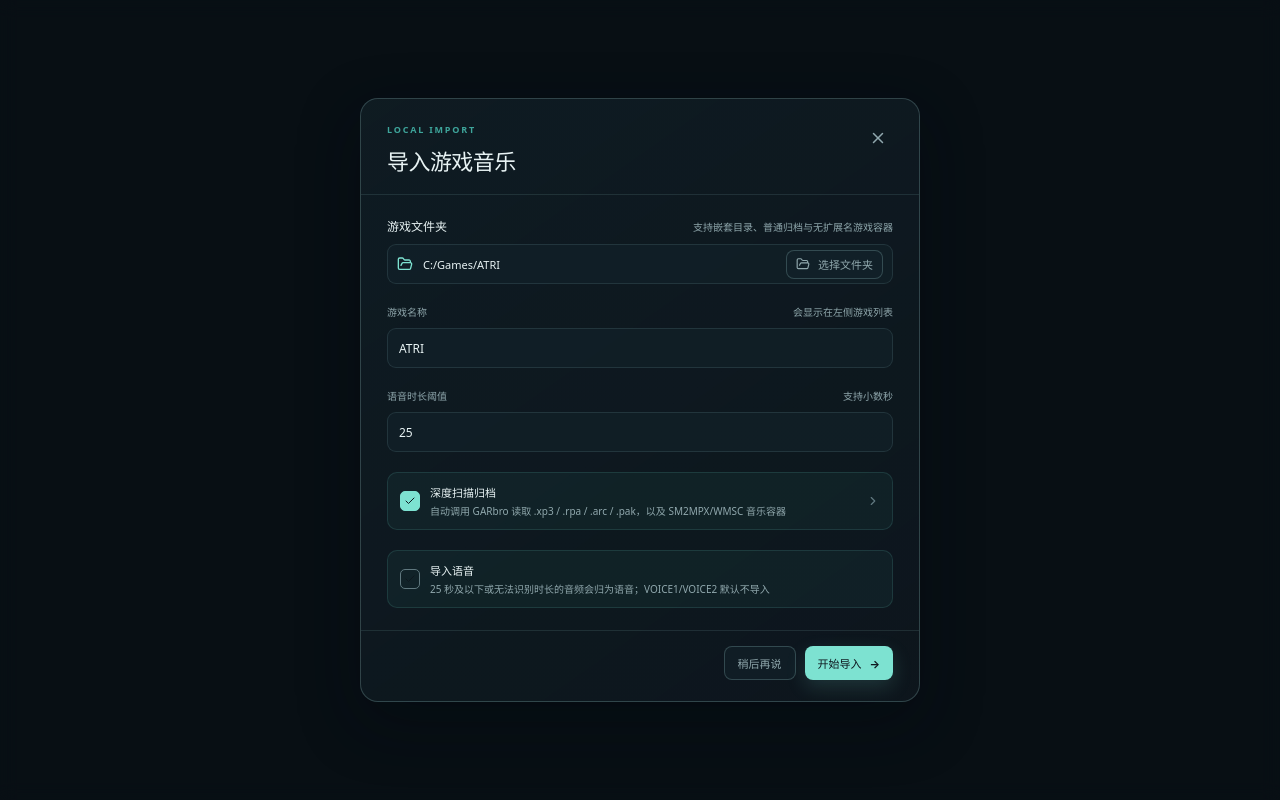
Test case: scan and settings surfaces › rejects invalid voice threshold 60.1
The image size is (1280, 800).
Replace the text in the number field labelled "语音时长阈值 支持小数秒" with "60.1" at (640, 432), box [387,412,893,452]
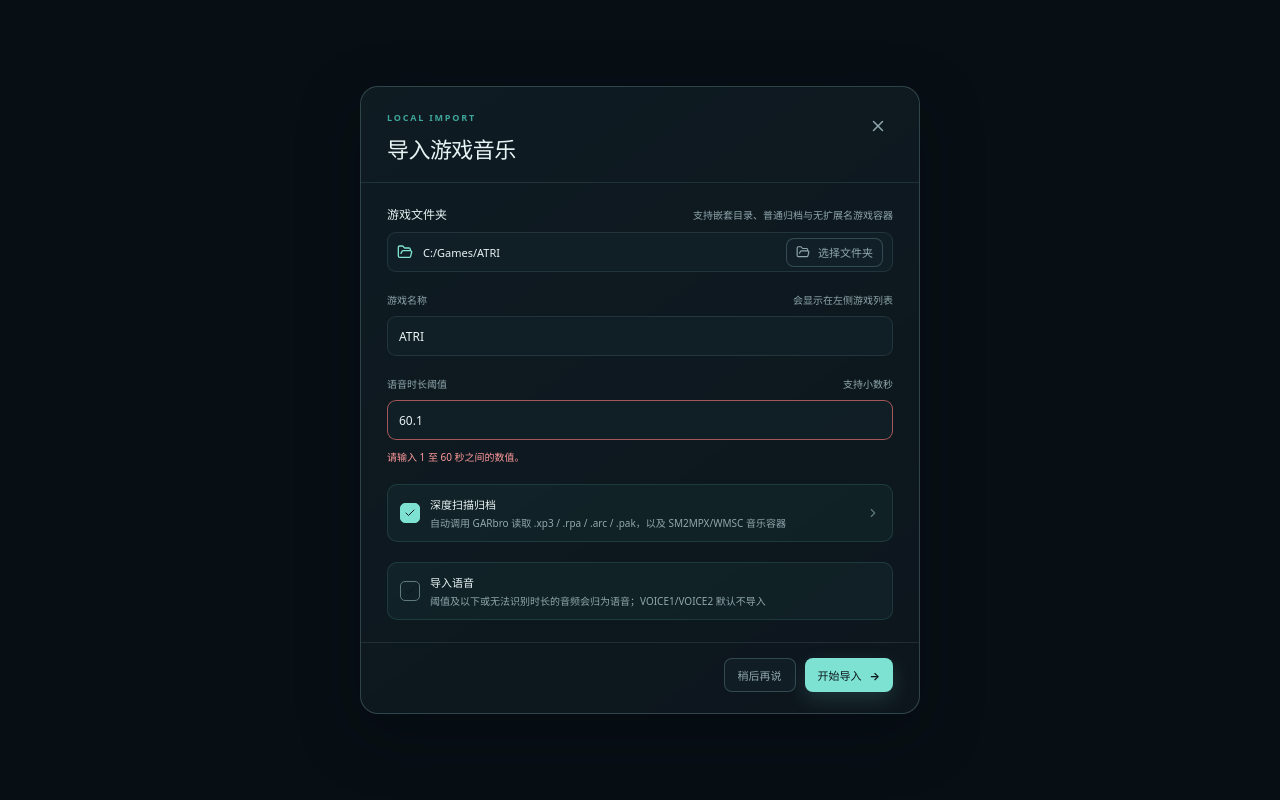
Expected: the button "开始导入 →" is disabled, [804,658,893,692]
Expected: the text "请输入 1 至 60 秒之间的数值。" is shown, [387,450,525,464]
